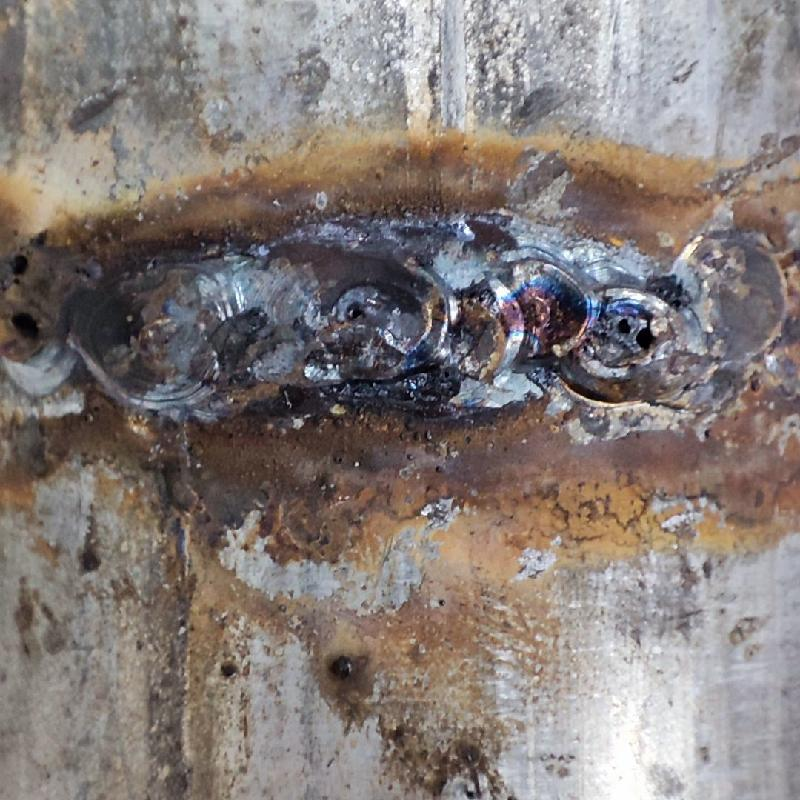Surface_pores: (603, 301, 664, 365)
crater: (324, 226, 796, 402)
